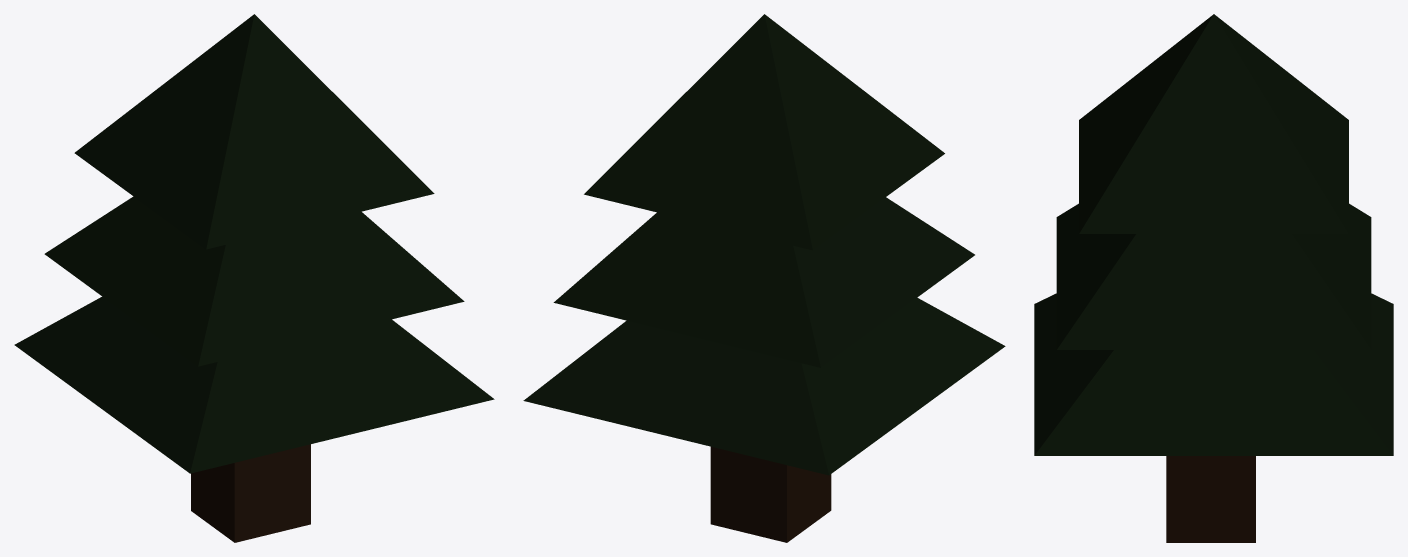
Rendered from Tree.FBX.
3 renders of one model, left to right at view 1: azimuth 30°, elevation 25°; view 2: azimuth 150°, elevation 25°; view 3: azimuth 270°, elevation 25°, orthographic. The views are drawn at different scales.
Visible parts, largest first — view 1: Pyramid001, Pyramid003, Pyramid002, Box001; view 2: Pyramid001, Pyramid003, Pyramid002, Box001; view 3: Pyramid001, Pyramid003, Pyramid002, Box001.
Part boxes in pixels (x1,y1,x2,y2): Pyramid001: (74,14,434,249); Pyramid003: (14,296,494,473); Pyramid002: (44,196,464,366); Box001: (191,444,310,542); Pyramid001: (584,14,944,250); Pyramid003: (523,297,1005,475); Pyramid002: (553,197,974,367); Box001: (710,446,831,542); Pyramid001: (1079,14,1348,233); Pyramid003: (1034,293,1393,455); Pyramid002: (1056,203,1371,349); Box001: (1166,456,1255,542).
Bounding box in the file's own units: 0.4 × 0.629 × 0.4.
